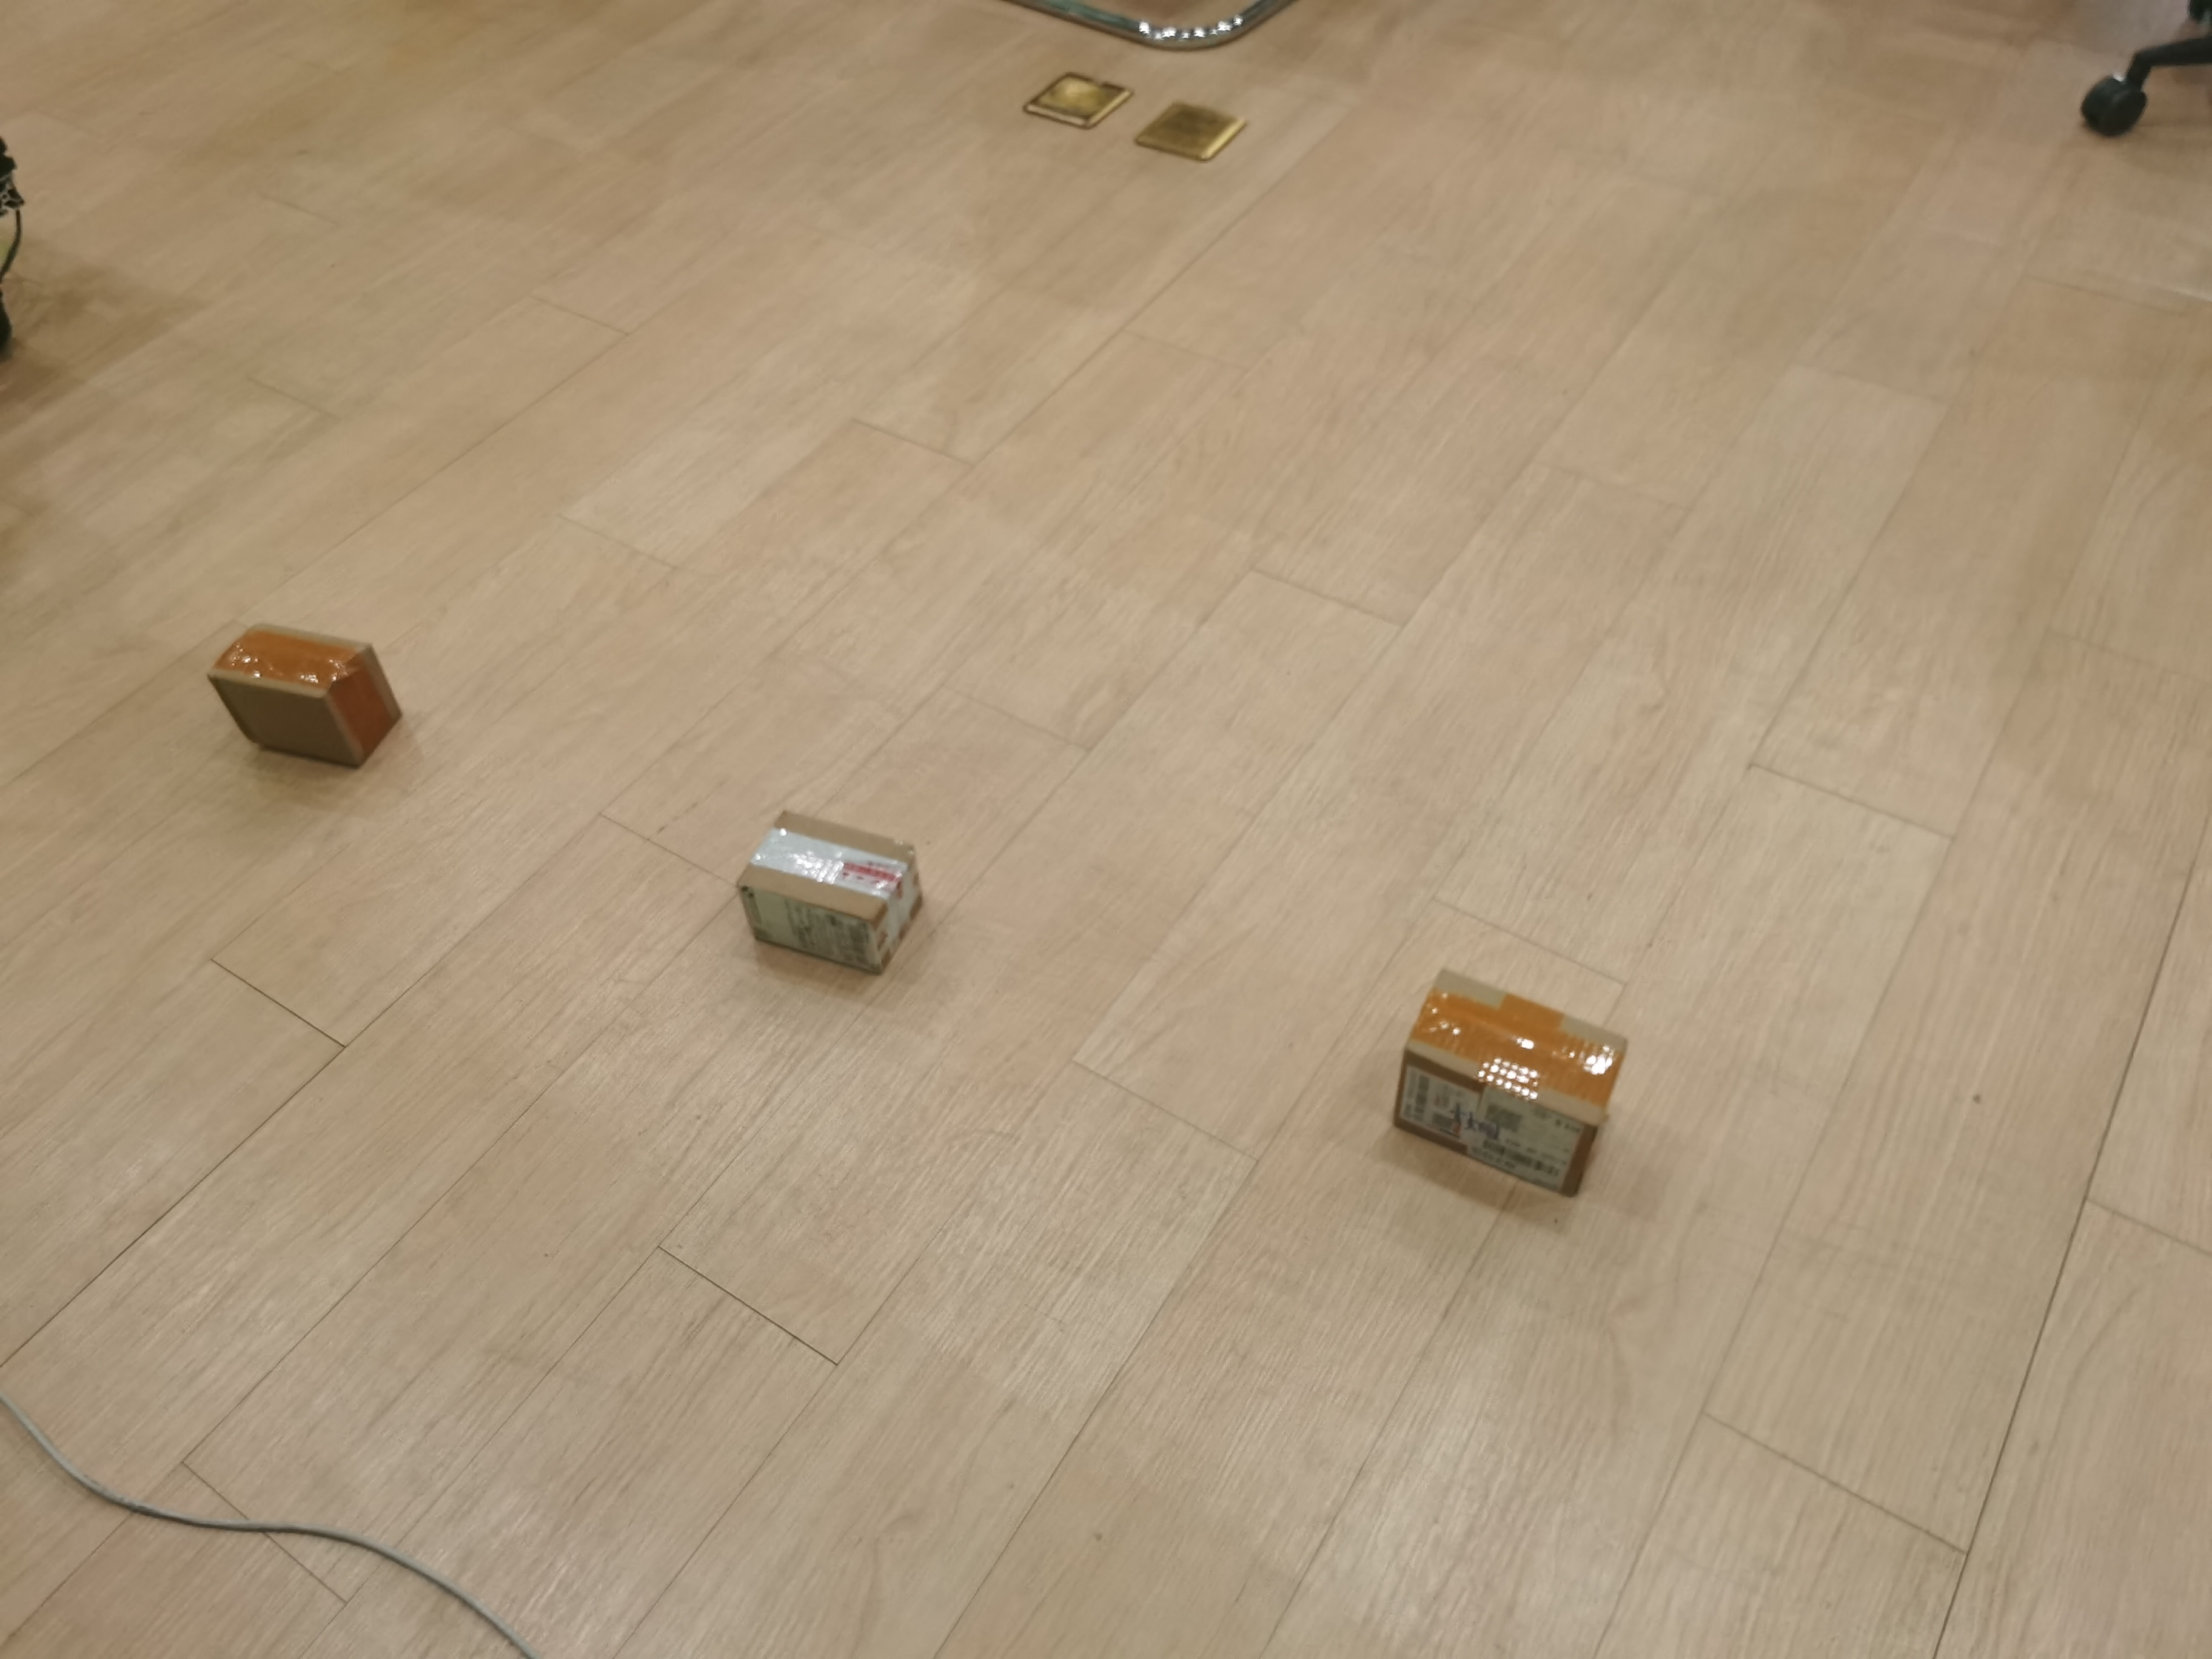box: (1390, 962, 1630, 1202), (733, 800, 925, 981), (204, 619, 408, 777)
